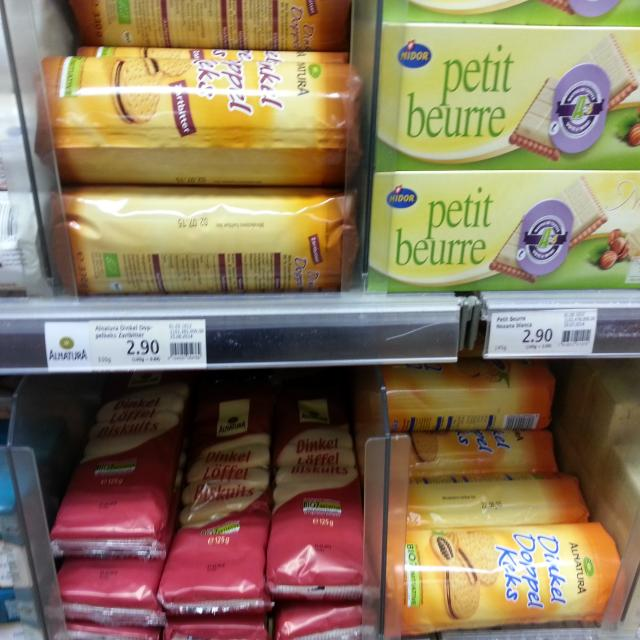Biscuits: (370, 0, 640, 173), (28, 58, 364, 191), (40, 189, 362, 298), (366, 168, 640, 296), (153, 387, 276, 606), (53, 377, 192, 560), (385, 526, 622, 627), (264, 388, 372, 592)
